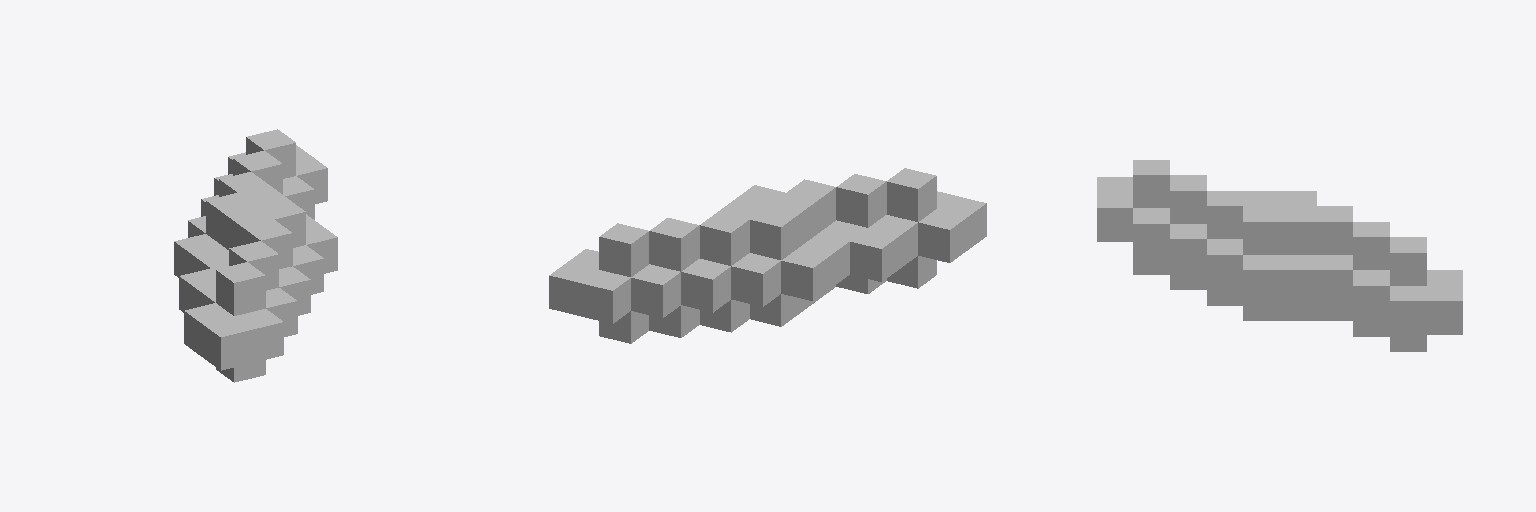
The model's file is lightning_bolt.obj.
The picture shows the model from 3 angles: view 1: azimuth 30°, elevation 25°; view 2: azimuth 150°, elevation 25°; view 3: azimuth 270°, elevation 25°; orthographic projection.
Parts seen in each view (by area): view 1: cube; view 2: cube; view 3: cube.
Boxes of the visible parts, box(x1,y1,x2,y2) form: cube: box(174, 129, 337, 382); cube: box(549, 168, 986, 343); cube: box(1097, 160, 1462, 351).
Size of the model in its own units: 0.5 by 0.1875 by 0.625.